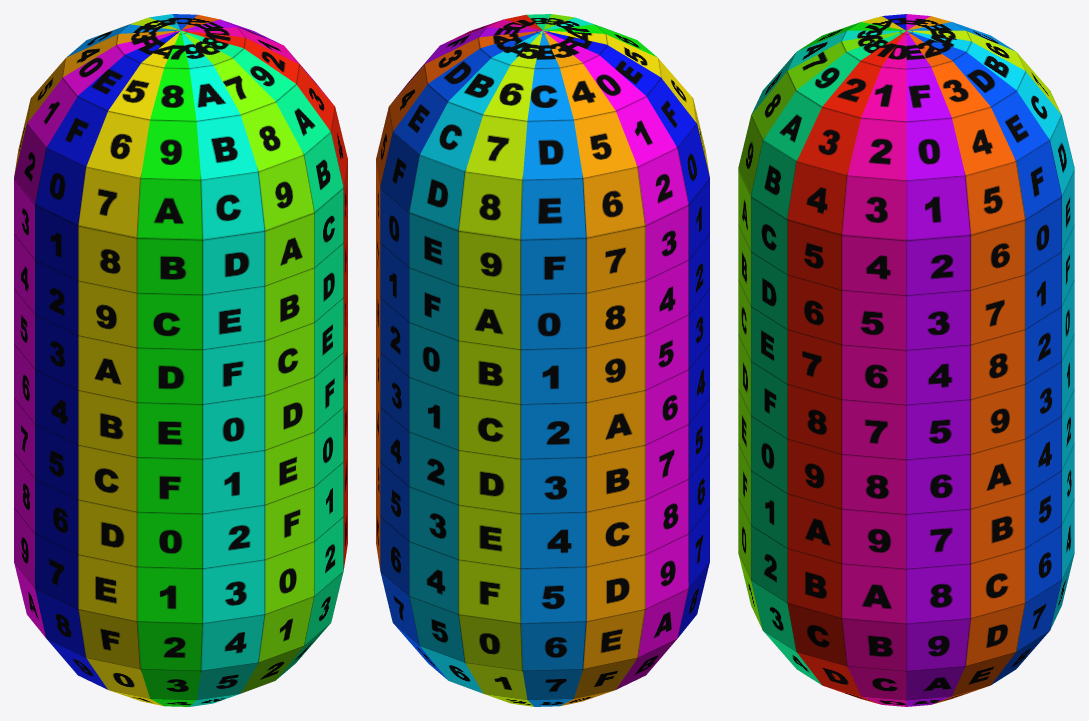
Rendered from CObject.fbx.
The picture shows the model from 3 angles, left to right: view 1: azimuth 30°, elevation 25°; view 2: azimuth 150°, elevation 25°; view 3: azimuth 270°, elevation 25°; orthographic projection.
Visible parts, largest first — view 1: Circle.001; view 2: Circle.001; view 3: Circle.001.
Part boxes in pixels (box(x1,y1,x2,y2)): Circle.001: box(14, 14, 347, 706); Circle.001: box(376, 14, 709, 706); Circle.001: box(738, 14, 1074, 706).
Bounding box in the file's own units: 0.9 × 1.95 × 0.9.
